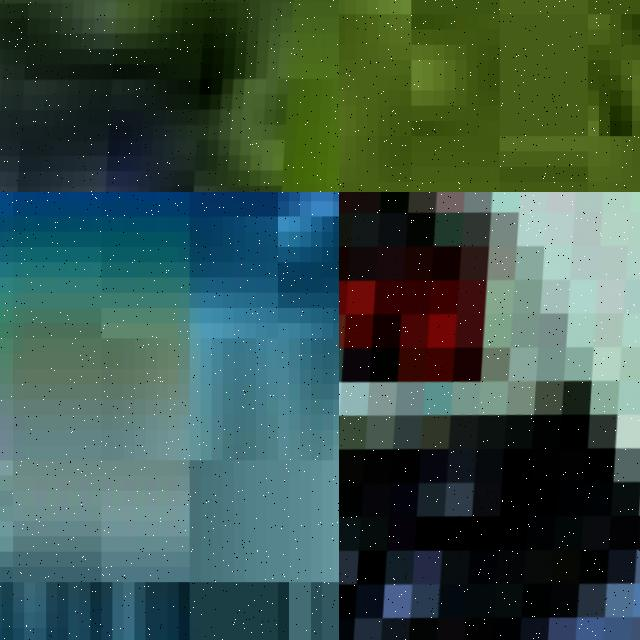drone: (339, 192, 640, 640), (0, 0, 339, 192)
